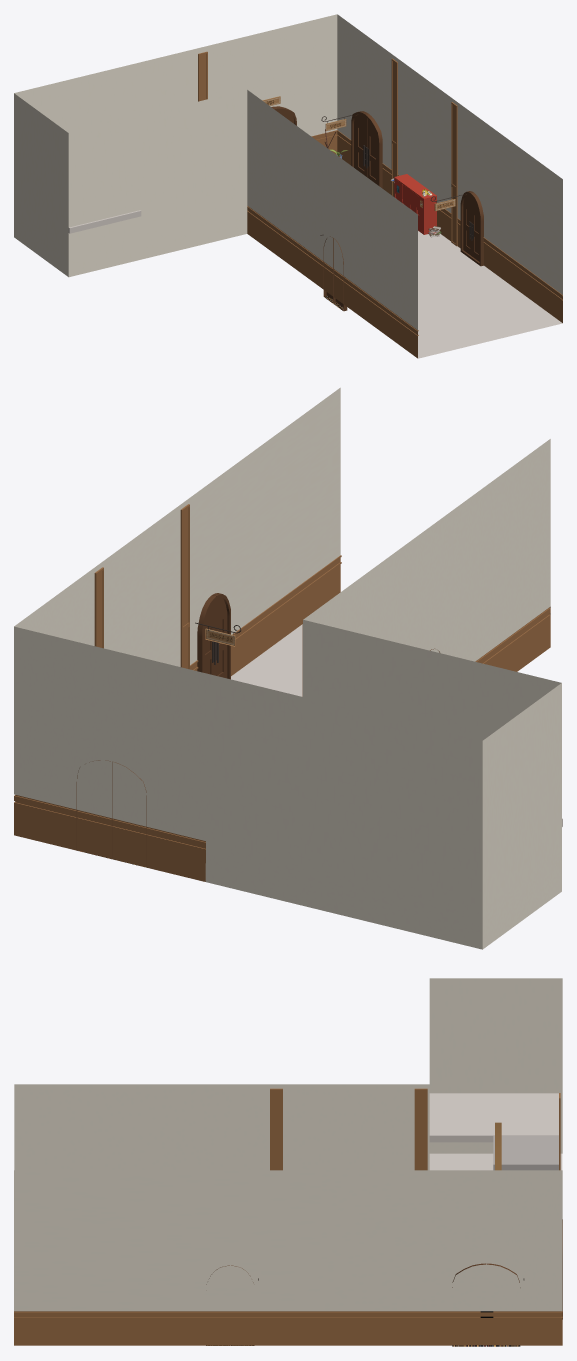
File: corridor1.fbx
The picture shows the model from 3 angles, top to bottom: view 1: azimuth 30°, elevation 25°; view 2: azimuth 150°, elevation 25°; view 3: azimuth 270°, elevation 25°; orthographic projection. The views are drawn at different scales.
Visible parts, largest first — view 1: corrodor1; view 2: corrodor1; view 3: corrodor1.
Part boxes in pixels (x1,y1,x2,y2): corrodor1: (14, 14, 562, 358); corrodor1: (14, 387, 562, 949); corrodor1: (14, 978, 562, 1346).
Bounding box in the file's own units: 18.71 × 8.27 × 22.43.
Materials: 2 (2 with a texture image).
